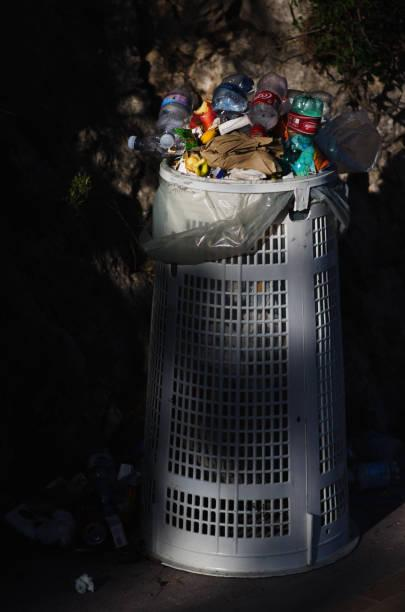trash: (112, 68, 389, 193)
trash_can_overflow: (126, 69, 366, 570)
